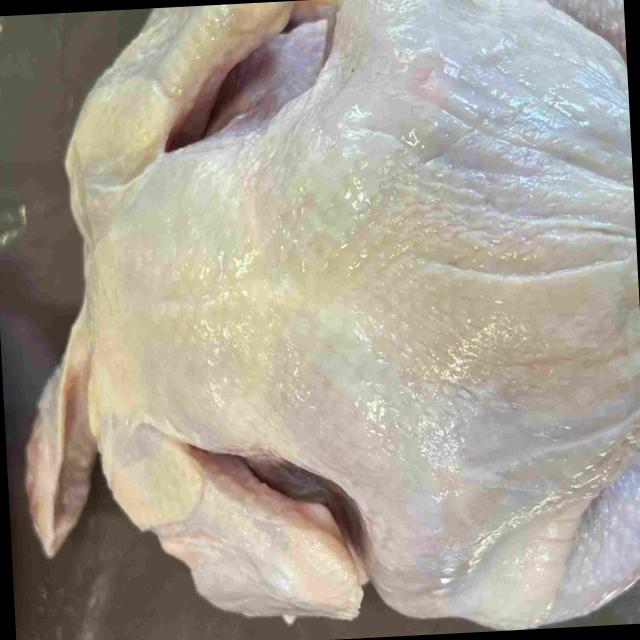back: (106, 61, 640, 468)
leg: (382, 445, 640, 628), (353, 0, 627, 69)
neck: (26, 295, 93, 544)
wing: (94, 385, 362, 623), (65, 0, 331, 230)
